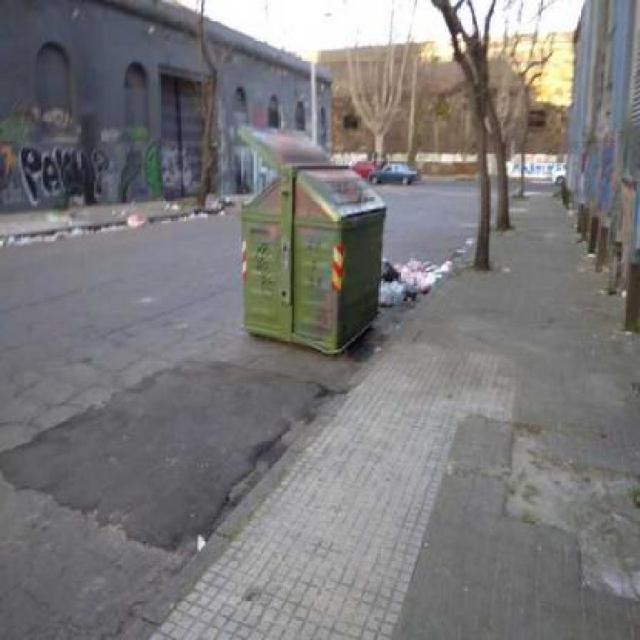garbage: (372, 250, 460, 313), (98, 209, 156, 234), (175, 195, 230, 216), (5, 225, 88, 236)
